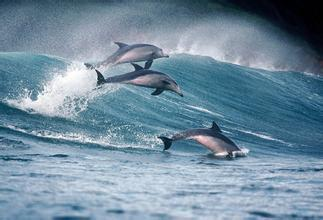fish: (85, 57, 184, 97), (152, 121, 251, 160), (78, 40, 173, 67)
